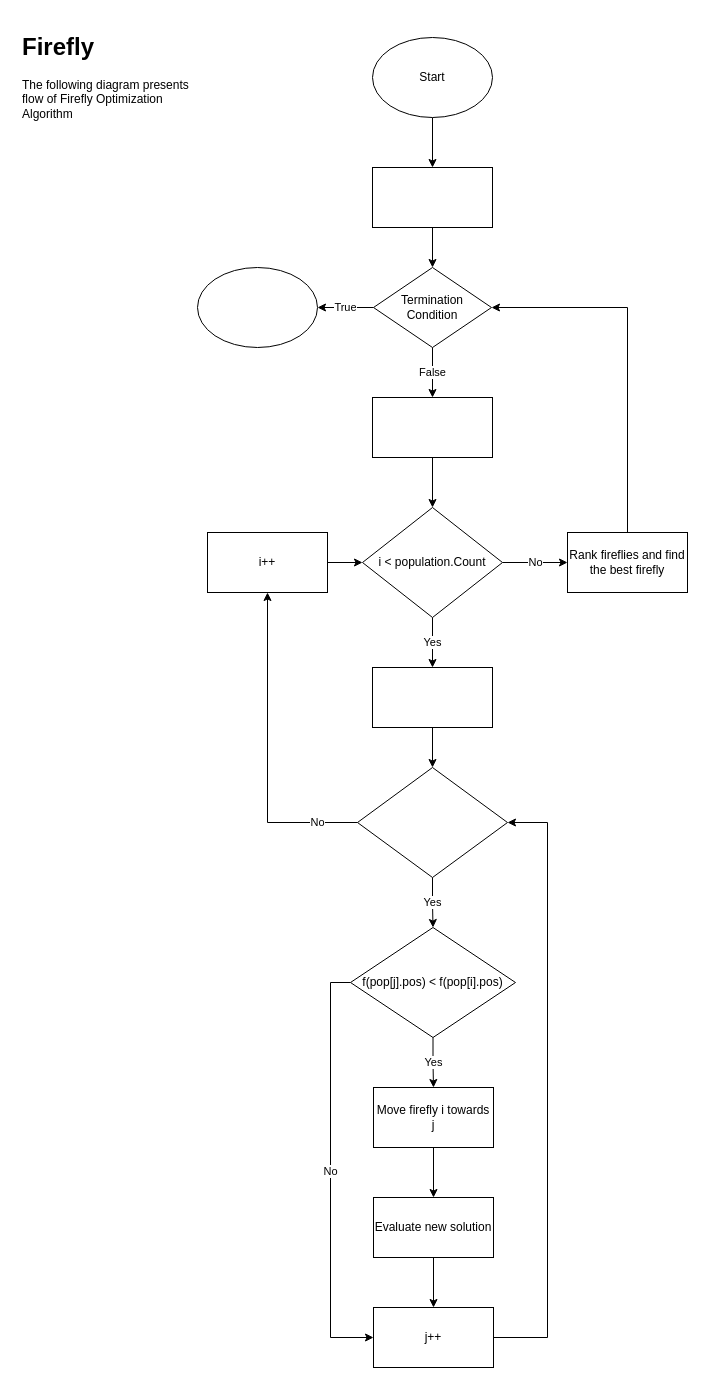
The diagram is 705 pixels wide and 1385 high, and some of its shapes have lost their labels. Each missing label, with the centre of its shape:
Generate initial population of fireflies (random positions etc.): the point at 432,197
i = 0: the point at 432,427
j < i: the point at 432,822
j = 0: the point at 432,697
return best position: the point at 257,307
